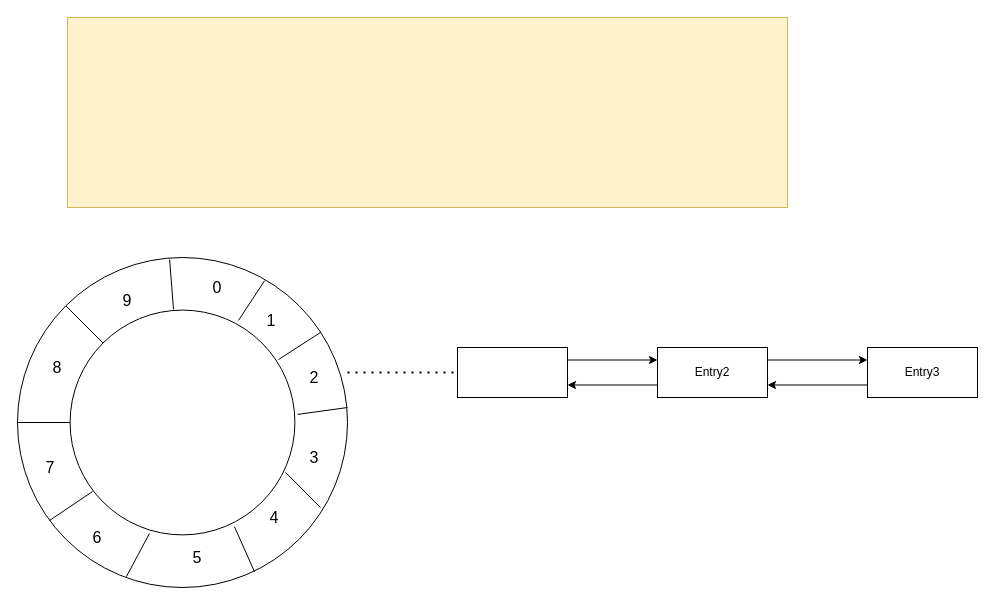
The diagram is 995 pixels wide and 605 high, and some of its shapes have lost their labels. The shapes that lost their labels are listed below. From the top down, each one's centre as x and y in pixels, then its label:
At [427,112]: "时间轮延时算法".
At [512,372]: "Entry1".
